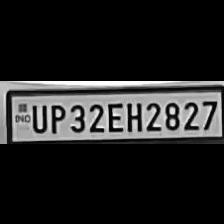2: (181, 97, 199, 130), (86, 99, 104, 131), (143, 98, 161, 130)
3: (67, 100, 85, 132)
7: (199, 97, 217, 129)
8: (162, 98, 180, 130)
E: (104, 98, 122, 132)
H: (124, 98, 142, 132)
P: (47, 100, 65, 132)
U: (28, 100, 46, 132)
